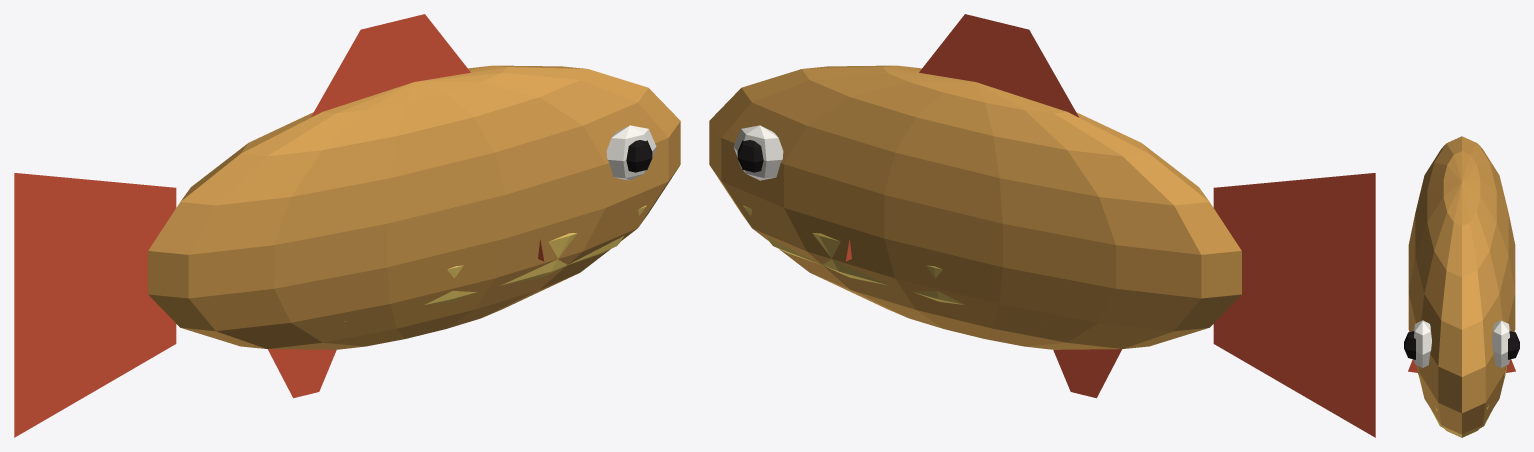
Rendered from fish_carpa.obj.
3 renders of one model, left to right at view 1: azimuth 30°, elevation 25°; view 2: azimuth 150°, elevation 25°; view 3: azimuth 270°, elevation 25°, orthographic. The views are drawn at different scales.
Parts seen in each view (by area): view 1: fish; view 2: fish; view 3: fish.
Part boxes in pixels (left/top/right/bottom): fish: left=14, top=14, right=680, bottom=437; fish: left=709, top=14, right=1375, bottom=437; fish: left=1404, top=136, right=1519, bottom=437.
Size of the model in its own units: 0.6655 by 0.336 by 0.1202.
